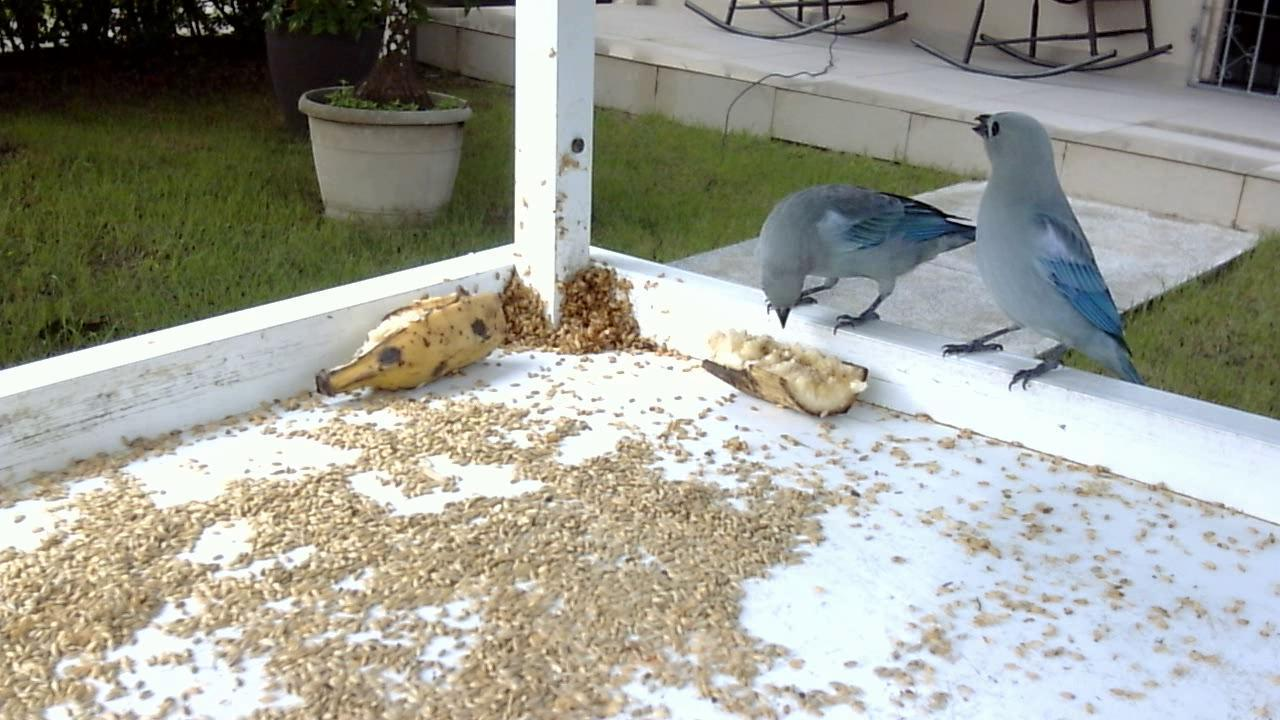sanhaco_da_amazonia: (931, 99, 1152, 406), (748, 163, 986, 348)
